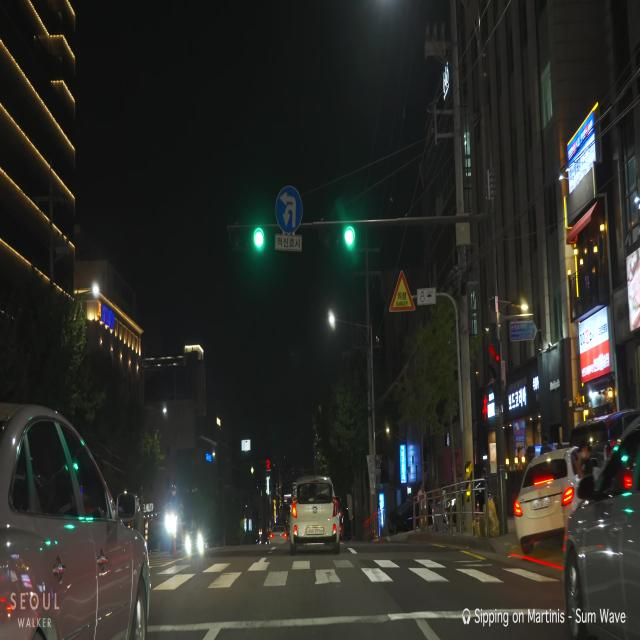Green Light: (252, 226, 265, 251), (343, 224, 356, 249)
